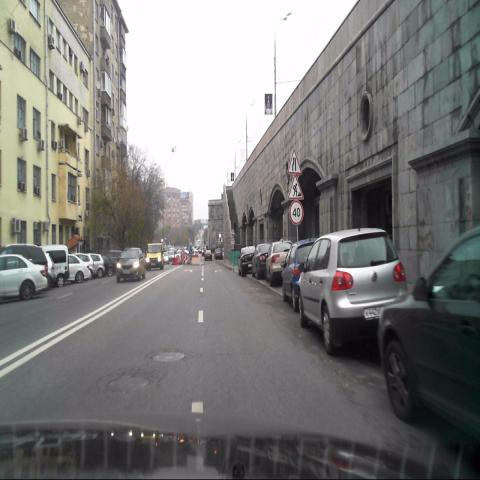1_20_3: (286, 148, 302, 174)
3_24: (289, 197, 303, 226)
